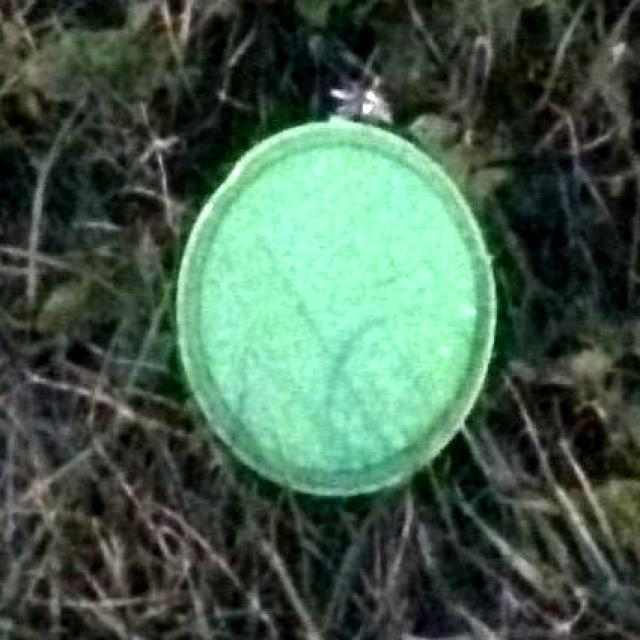Plastic: (179, 123, 497, 497)
